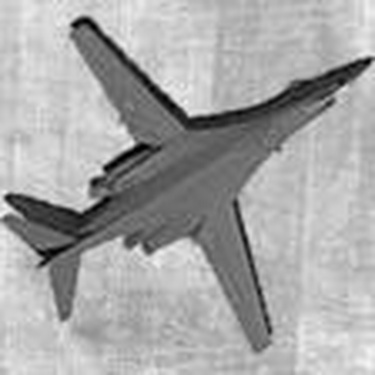airplane: (3, 9, 369, 360)
